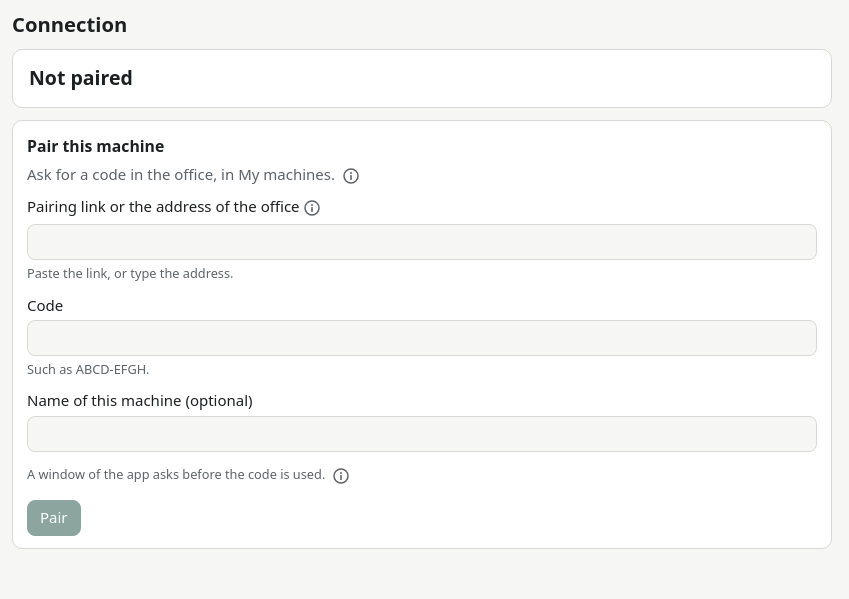
Test case: pairing › pairs with the address and the code that were typed, and shows what the office said it paired with
The image size is (849, 599).
In the field labelled "Pairing link or the address of the office": (422, 242) [27,224,817,260], type "https://office.example"
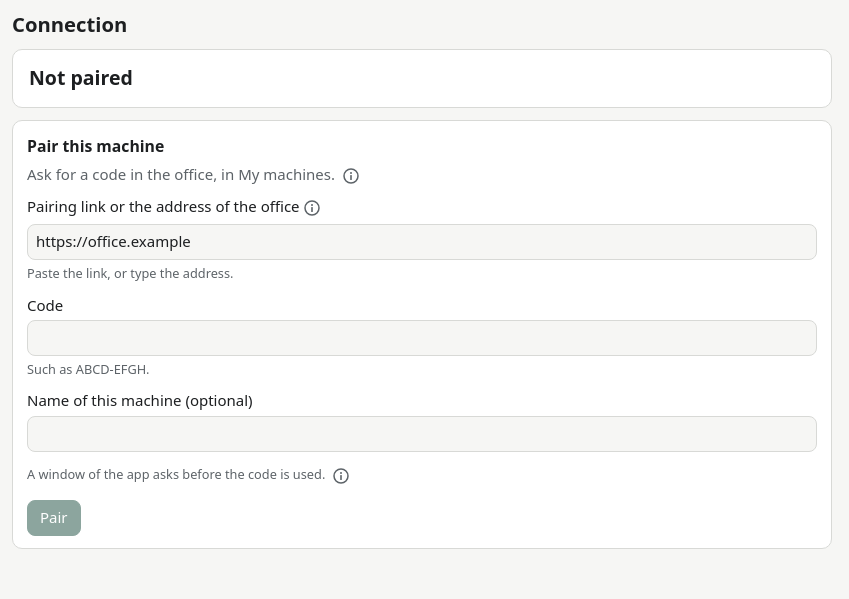
In the field labelled "Code": (422, 338) [27,320,817,356], type "ABCD-EFGH"
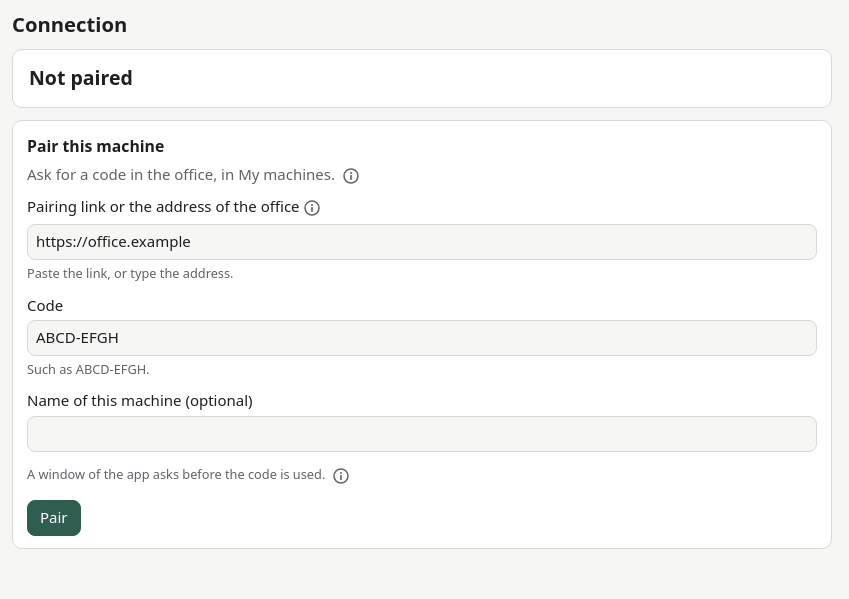
Click the button "Pair": (54, 518) [27,500,81,536]
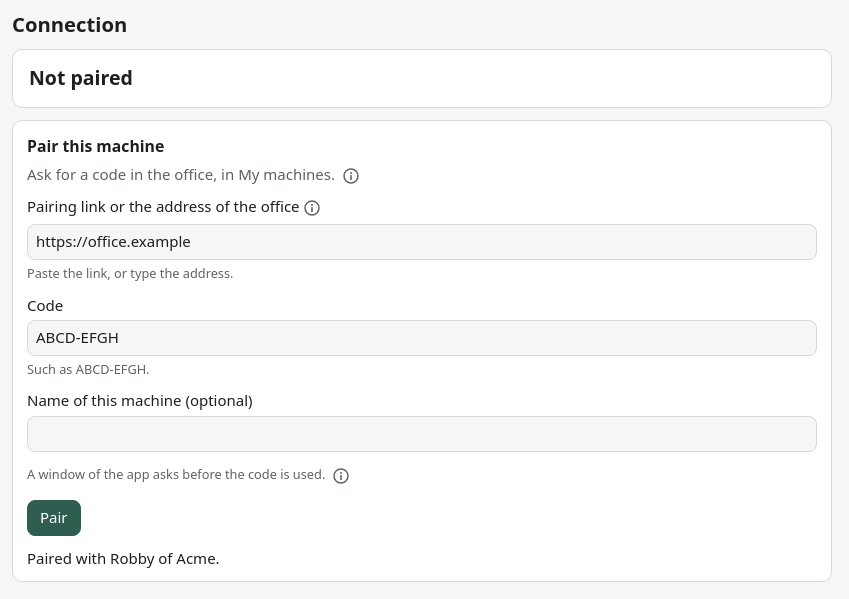
Now the text "Paired with Robby of Acme." is shown, box [27,548,220,568]
